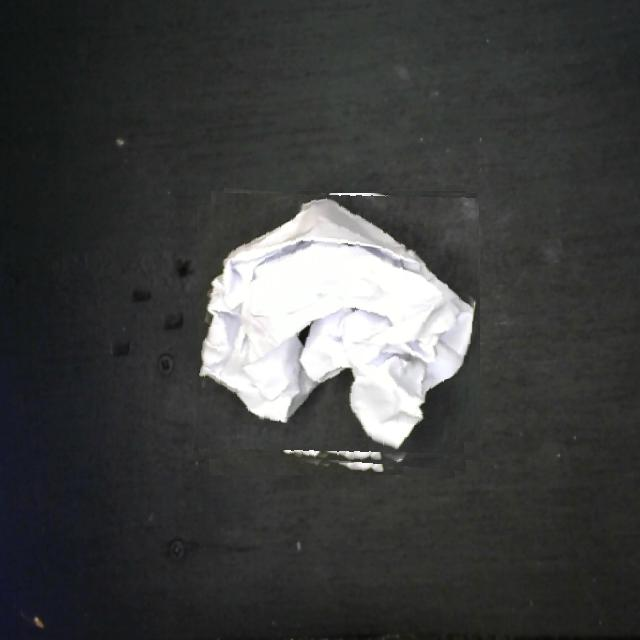biodegradable: (198, 193, 479, 473)
